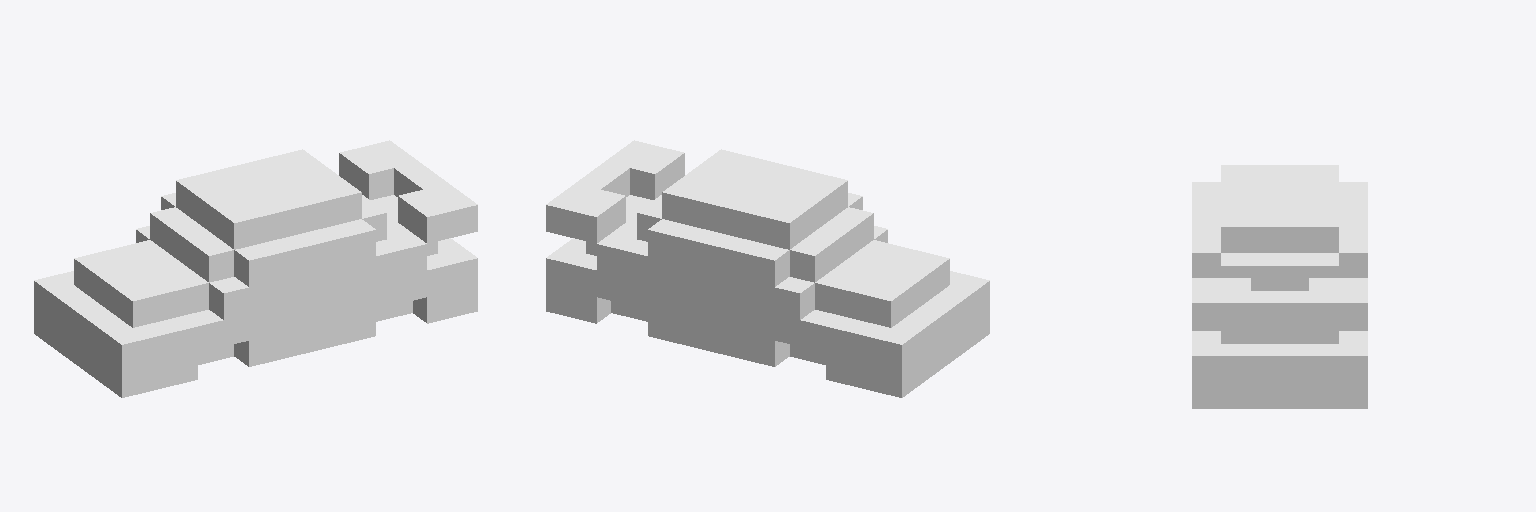
File: racer-v3-yellow.obj
3 views of the same model, side by side, from view 1: azimuth 30°, elevation 25°; view 2: azimuth 150°, elevation 25°; view 3: azimuth 270°, elevation 25° (orthographic).
Parts seen in each view (by area): view 1: object 1; view 2: object 1; view 3: object 1.
Part boxes in pixels (x1,y1,x2,y2): object 1: (34, 140, 477, 397); object 1: (546, 140, 989, 397); object 1: (1192, 165, 1367, 408).
Size of the model in its own units: 1.4 by 0.5 by 0.6.